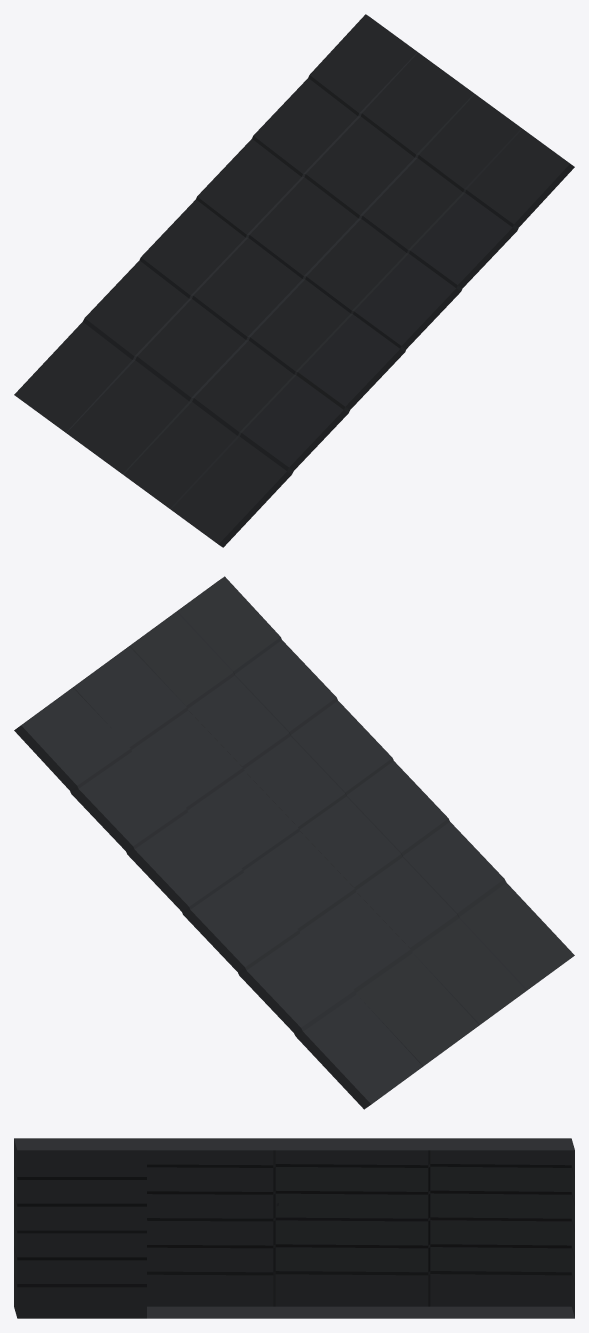
The model's file is HouseRoofEdge.fbx.
3 renders of one model, top to bottom at view 1: azimuth 30°, elevation 25°; view 2: azimuth 150°, elevation 25°; view 3: azimuth 270°, elevation 25°, orthographic. The views are drawn at different scales.
Parts seen in each view (by area): view 1: Cube.008; view 2: Cube.008; view 3: Cube.008.
Part boxes in pixels (left/top/right/bottom): Cube.008: left=14, top=14, right=574, bottom=547; Cube.008: left=14, top=576, right=574, bottom=1109; Cube.008: left=14, top=1138, right=574, bottom=1318.
Size of the model in its own units: 212 by 170 by 211.
